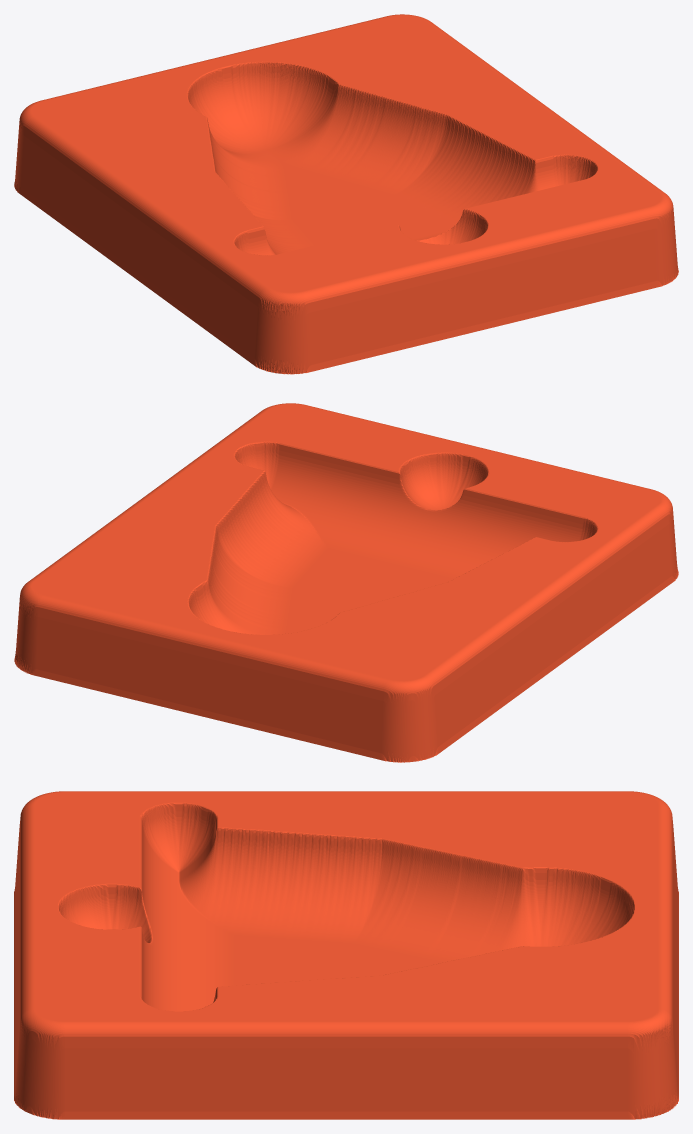
Rendered from mold.glb.
3 views of the same model, one above another, from view 1: azimuth 30°, elevation 25°; view 2: azimuth 150°, elevation 25°; view 3: azimuth 270°, elevation 25° (orthographic). The views are drawn at different scales.
Parts seen in each view (by area): view 1: geometry_0; view 2: geometry_0; view 3: geometry_0.
Part boxes in pixels (<box>): geometry_0: <box>14,14,678,374</box>; geometry_0: <box>14,403,678,762</box>; geometry_0: <box>14,791,678,1119</box>.
Size of the model in its own units: 0.1032 by 0.0175 by 0.1178.
